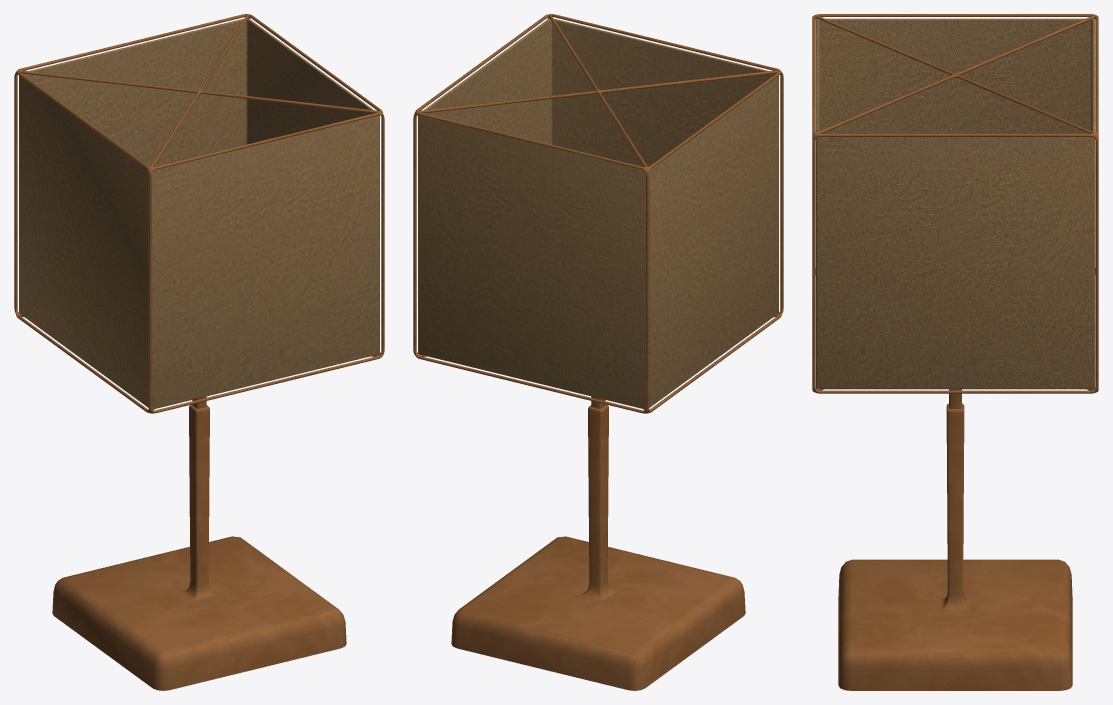
The model's file is Lampara_Mesa_De_Luz.fbx.
3 renders of one model, left to right at view 1: azimuth 30°, elevation 25°; view 2: azimuth 150°, elevation 25°; view 3: azimuth 270°, elevation 25°, orthographic. The views are drawn at different scales.
Parts seen in each view (by area): view 1: Cube; view 2: Cube; view 3: Cube.
Boxes of the visible parts, x1,y1,x2,y2 form: Cube: (14,14,384,690); Cube: (413,14,783,690); Cube: (812,14,1098,690).
Size of the model in its own units: 65.26 by 143 by 65.26.
3 materials, 2 textured.
